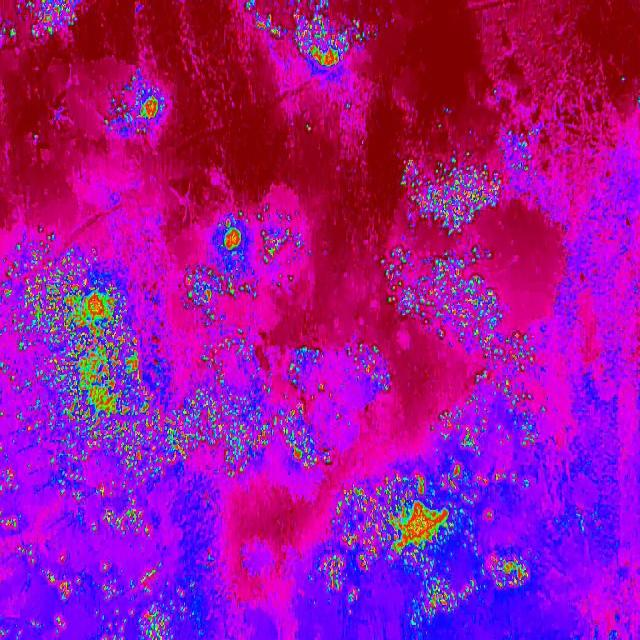fire: (0, 229, 177, 640), (318, 473, 536, 625), (178, 334, 390, 481), (185, 211, 308, 323), (430, 374, 552, 474), (381, 245, 506, 334), (245, 0, 377, 68), (398, 154, 503, 234), (104, 66, 174, 146), (0, 0, 81, 44), (458, 332, 540, 373), (498, 121, 548, 182)
